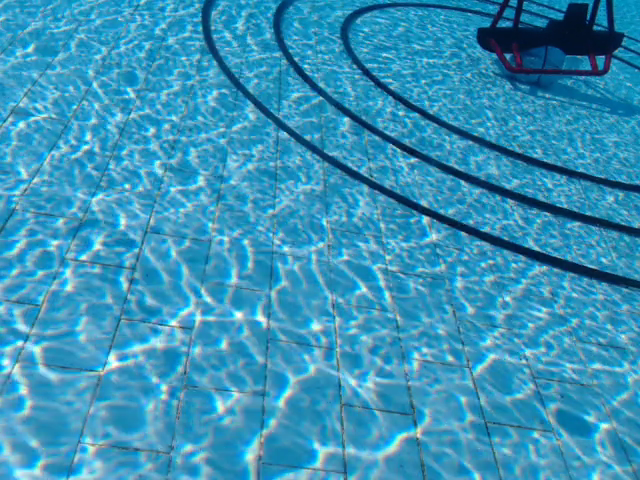submarine: (475, 1, 628, 77)
